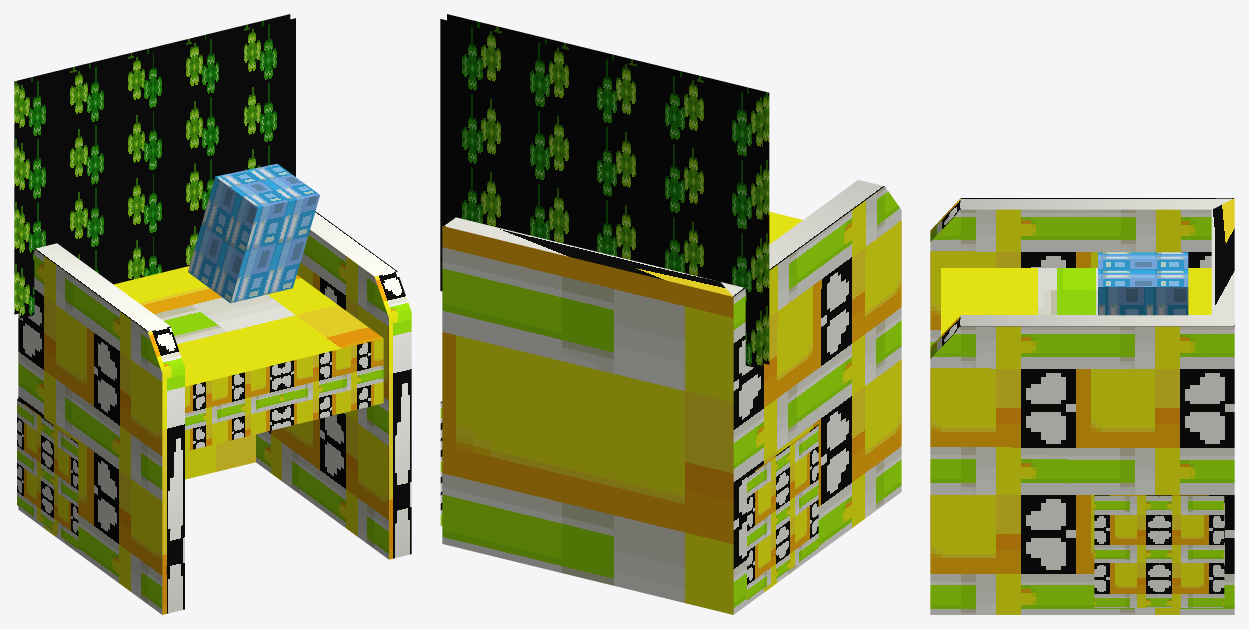
Rendered from 3857kg3_ser38.gltf.
The picture shows the model from 3 angles, left to right: view 1: azimuth 30°, elevation 25°; view 2: azimuth 150°, elevation 25°; view 3: azimuth 270°, elevation 25°; orthographic projection. The views are drawn at different scales.
Parts seen in each view (by area): view 1: 3857kg3_ser38; view 2: 3857kg3_ser38; view 3: 3857kg3_ser38.
Boxes of the visible parts, x1,y1,x2,y2 form: 3857kg3_ser38: [14, 14, 411, 614]; 3857kg3_ser38: [440, 14, 901, 614]; 3857kg3_ser38: [930, 198, 1234, 614].
Size of the model in its own units: 0.9966 by 1.51 by 0.8999.
Materials: 3 (3 with a texture image).
